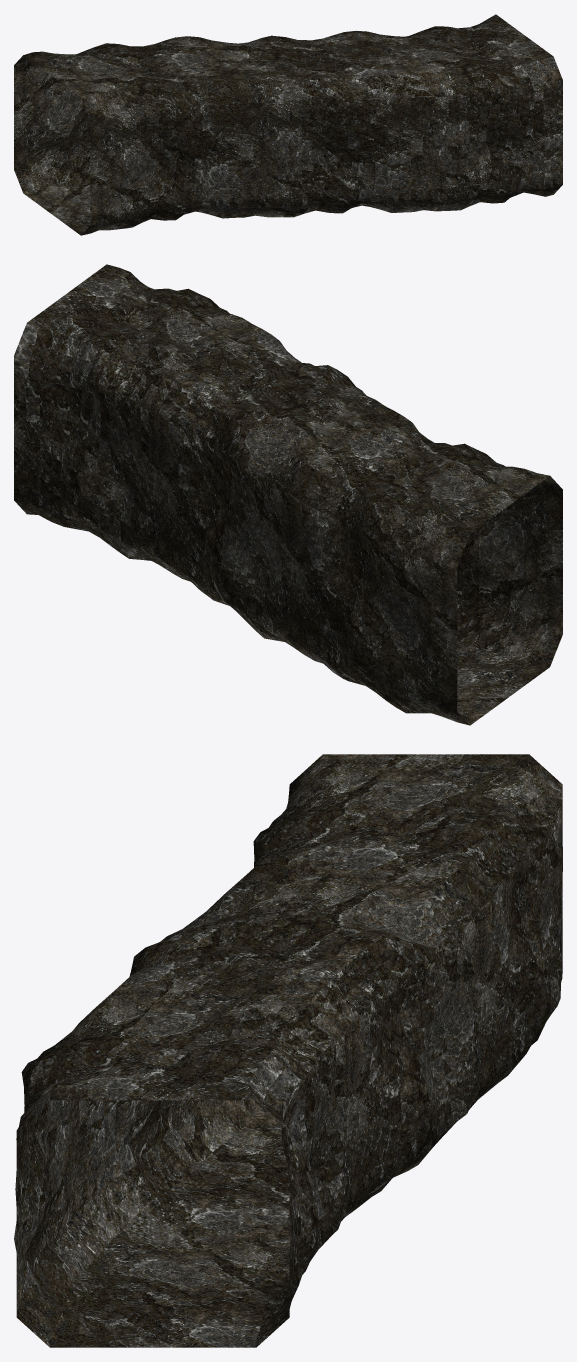
Rendered from Cave_103.fbx.
3 renders of one model, top to bottom at view 1: azimuth 30°, elevation 25°; view 2: azimuth 150°, elevation 25°; view 3: azimuth 270°, elevation 25°, orthographic. The views are drawn at different scales.
Visible parts, largest first — view 1: Cave.103; view 2: Cave.103; view 3: Cave.103.
Boxes of the visible parts, x1,y1,x2,y2 form: Cave.103: (14,14,562,235); Cave.103: (14,264,562,725); Cave.103: (14,754,562,1347).
Bounding box in the file's own units: 900 × 313 × 603.
